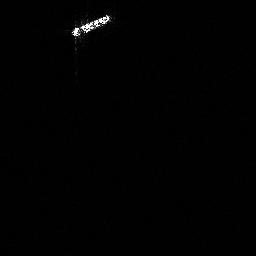ship: (66, 11, 113, 41)
